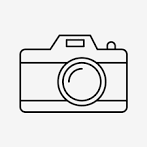camera: (18, 33, 127, 113)
